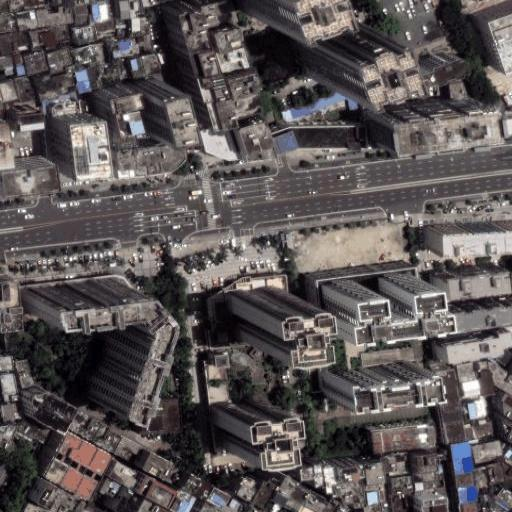building: (24, 276, 142, 406), (162, 0, 245, 123), (320, 274, 423, 331), (362, 99, 472, 147), (43, 430, 115, 503), (291, 17, 358, 81), (328, 365, 422, 401), (216, 395, 273, 450), (230, 286, 286, 340), (282, 86, 362, 121), (52, 113, 96, 174), (109, 137, 179, 175), (261, 124, 357, 151), (472, 0, 512, 63), (434, 369, 466, 443), (397, 52, 460, 87), (22, 386, 69, 431), (445, 333, 512, 364), (438, 255, 504, 286), (133, 79, 170, 130), (370, 426, 436, 452), (93, 84, 129, 128), (0, 152, 45, 187), (457, 304, 512, 332), (198, 290, 225, 347), (201, 124, 240, 161), (433, 221, 495, 244), (232, 119, 268, 158), (36, 481, 80, 512), (336, 465, 365, 508), (362, 464, 387, 512), (143, 479, 178, 510), (69, 411, 101, 442), (91, 423, 122, 454), (141, 452, 174, 481), (96, 59, 130, 87), (113, 435, 144, 463), (488, 361, 512, 396), (109, 462, 140, 489), (36, 5, 74, 27), (272, 476, 298, 508), (253, 476, 278, 509), (182, 473, 213, 499), (450, 440, 473, 475), (104, 122, 134, 146), (74, 66, 101, 92), (284, 485, 310, 512), (472, 440, 502, 463), (19, 420, 49, 443), (52, 71, 79, 96), (15, 358, 36, 388), (206, 486, 232, 510), (30, 28, 58, 50), (72, 45, 96, 70), (298, 492, 328, 512), (45, 50, 71, 73), (385, 452, 409, 476), (14, 77, 36, 103), (25, 52, 49, 75), (115, 488, 138, 512), (236, 479, 258, 503), (91, 41, 112, 66), (10, 107, 36, 126), (235, 0, 273, 13), (16, 9, 38, 31), (101, 478, 123, 500), (456, 484, 479, 505), (36, 76, 56, 100), (172, 492, 196, 512), (108, 39, 137, 55), (322, 466, 338, 495), (448, 78, 468, 101), (479, 370, 496, 397), (414, 456, 439, 474), (137, 498, 169, 512), (141, 52, 161, 74), (71, 25, 94, 44), (390, 476, 413, 495), (392, 493, 415, 512), (52, 102, 81, 117), (89, 1, 109, 22), (322, 498, 351, 512), (126, 56, 145, 77), (456, 363, 477, 382), (494, 220, 512, 242), (129, 17, 149, 36), (73, 3, 91, 24), (422, 498, 449, 512), (496, 488, 512, 510), (91, 19, 114, 34), (474, 467, 489, 490), (462, 379, 481, 397), (455, 472, 476, 487), (475, 420, 493, 437), (488, 464, 504, 483), (501, 393, 512, 419), (116, 19, 131, 37), (502, 415, 512, 440), (199, 502, 224, 512), (23, 499, 42, 512), (313, 467, 324, 489), (136, 37, 152, 52), (475, 399, 487, 418), (500, 118, 512, 136), (299, 468, 314, 481), (214, 355, 229, 368), (502, 447, 512, 466), (468, 402, 477, 419), (464, 424, 473, 441), (479, 361, 490, 371)
